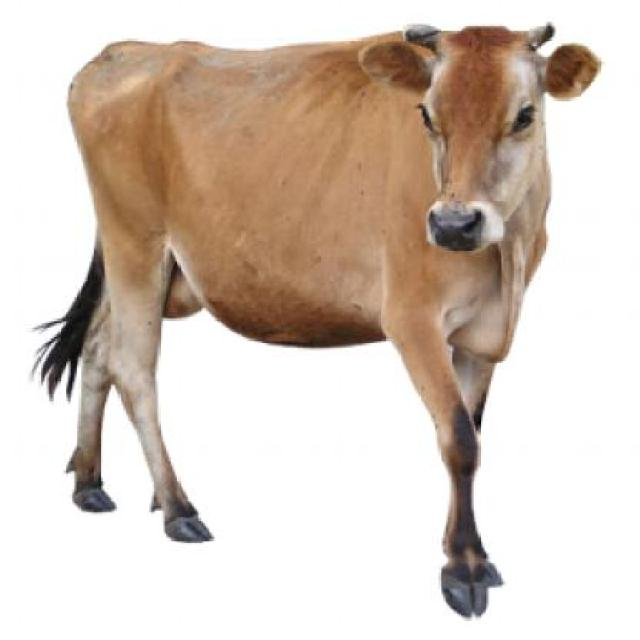Cow: (28, 25, 610, 620)
